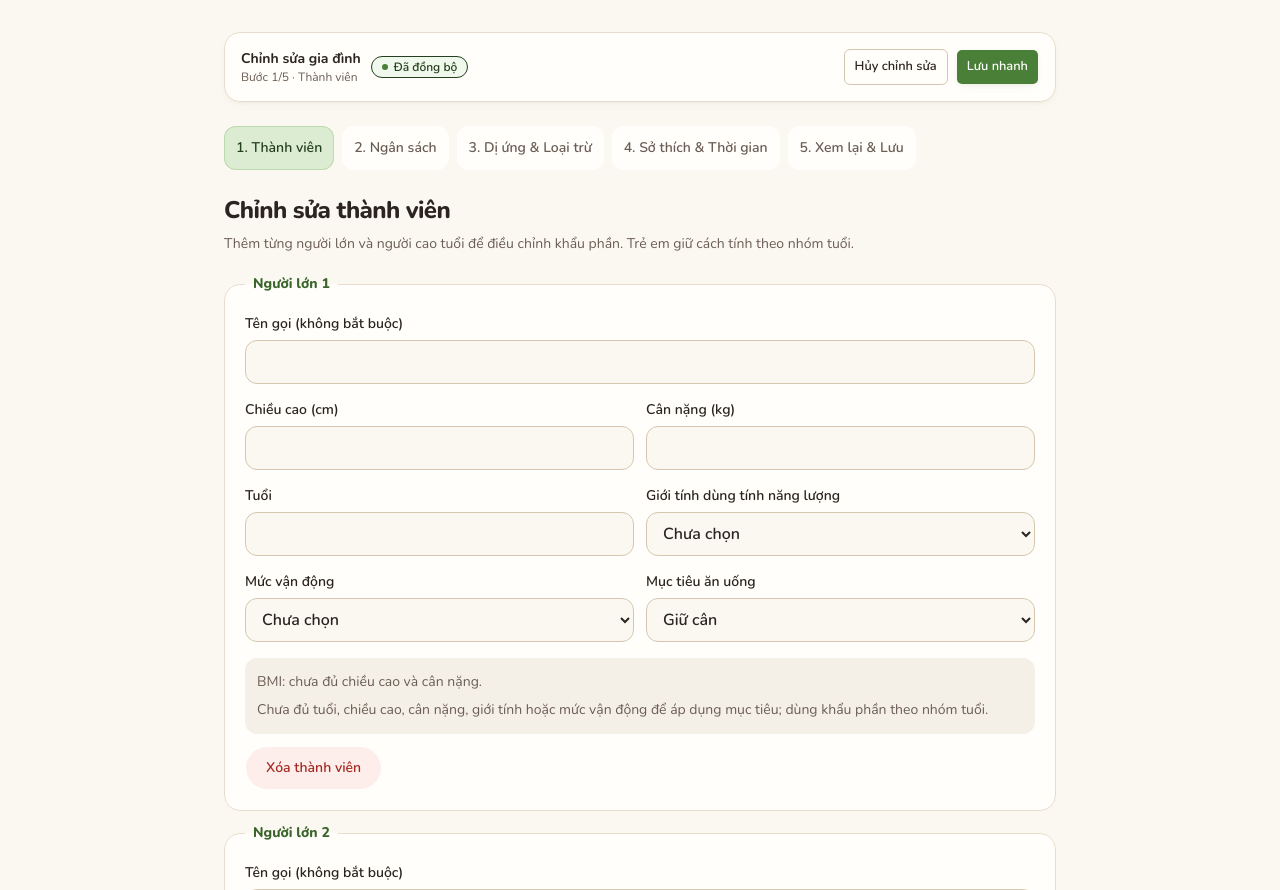
Scenario: HouseholdSettingsPage › cancels without writing
This screenshot has width=1280, height=890.
What coordinates should you click on to do the following:
click the button "Hủy chỉnh sửa"
I would click on:
 (896, 67)
Its box is [844,49,948,85].
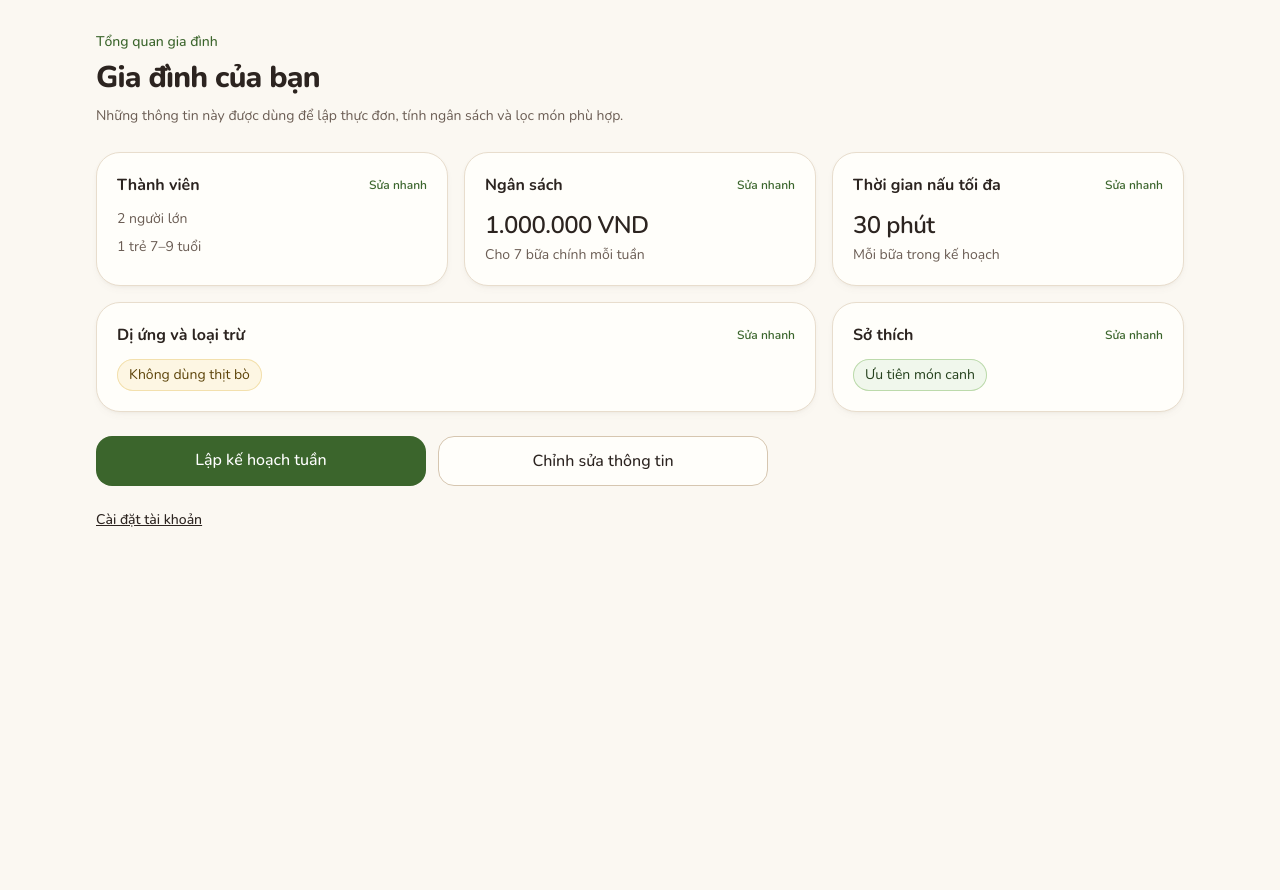
Expected: the heading "Gia đình của bạn" is shown, [96,57,320,98]
